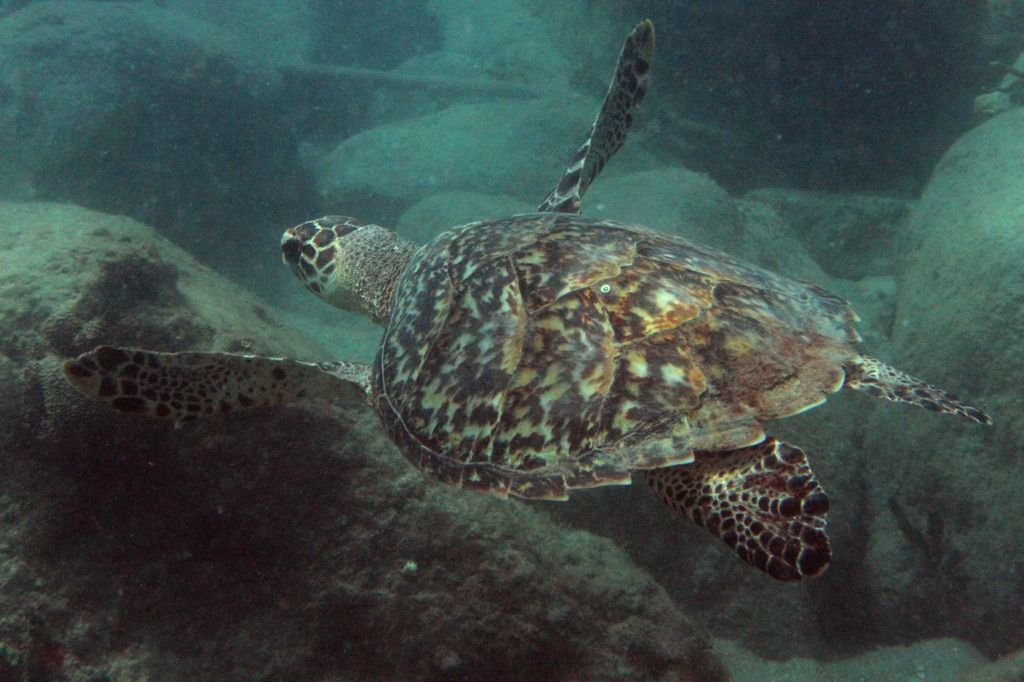Sea turtles: (60, 19, 988, 587)
